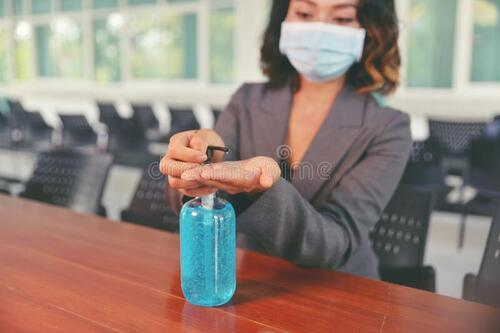sanitizer: (182, 145, 237, 309)
